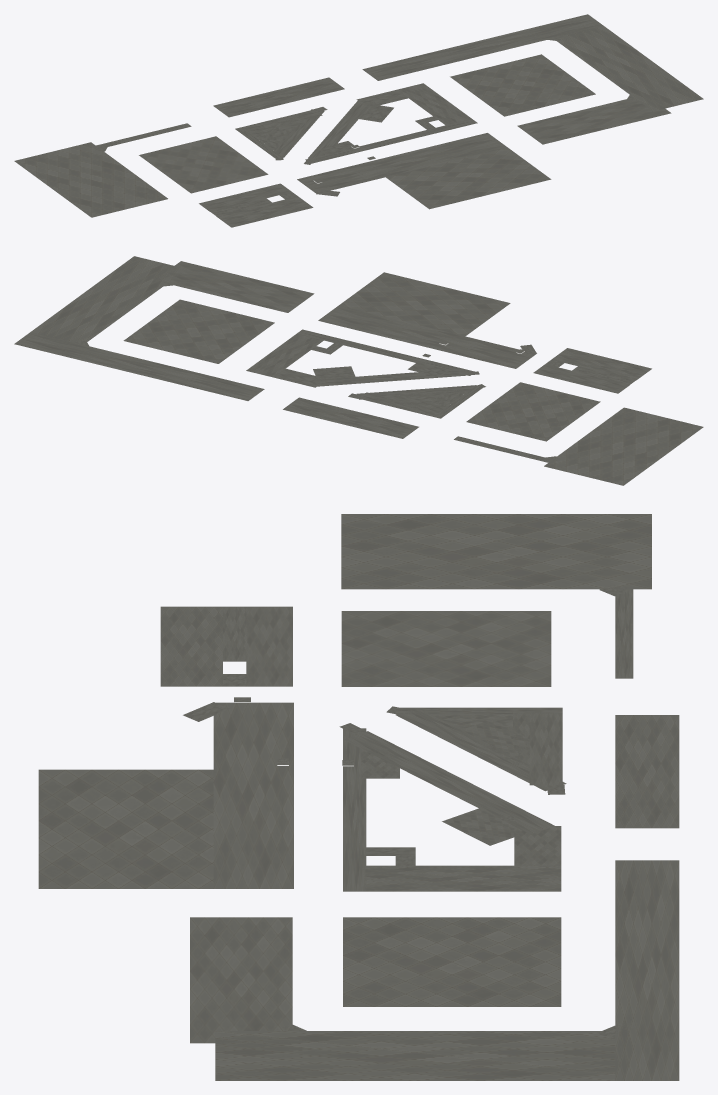
Rendered from Graund.gltf.
The picture shows the model from 3 angles, top to bottom: view 1: azimuth 30°, elevation 25°; view 2: azimuth 150°, elevation 25°; view 3: azimuth 270°, elevation 25°; orthographic projection. The views are drawn at different scales.
Visible parts, largest first — view 1: Pavement__2_, Pavement__11_, Pavement__7_, Pavement__12_, Pavement__1_, Pavement_8, Pavement__6_, Pavement__10_, Pavement__5_, Pavement_14, Pavement_10, Pavement_13 (+8 smaller); view 2: Pavement__2_, Pavement__11_, Pavement__7_, Pavement__12_, Pavement__1_, Pavement_8, Pavement__6_, Pavement__10_, Pavement__5_, Pavement_14, Pavement_10, Pavement_9 (+9 smaller); view 3: Pavement__2_, Pavement__11_, Pavement__7_, Pavement__12_, Pavement__1_, Pavement_8, Pavement__6_, Pavement__10_, Pavement__5_, Pavement_14, Pavement_10, Pavement_5 (+12 smaller).
Part boxes in pixels (left/top/right/bottom): Pavement__2_: left=14, top=142, right=167, bottom=217; Pavement__11_: left=386, top=147, right=551, bottom=209; Pavement__7_: left=557, top=26, right=703, bottom=111; Pavement__12_: left=450, top=54, right=595, bottom=116; Pavement__1_: left=139, top=136, right=268, bottom=193; Pavement_8: left=297, top=133, right=507, bottom=193; Pavement__6_: left=362, top=14, right=603, bottom=80; Pavement__10_: left=517, top=97, right=671, bottom=144; Pavement__5_: left=213, top=77, right=344, bottom=117; Pavement_14: left=397, top=83, right=471, bottom=125; Pavement_10: left=216, top=196, right=313, bottom=227; Pavement_13: left=305, top=119, right=477, bottom=163; Pavement__2_: left=544, top=407, right=703, bottom=485; Pavement__11_: left=339, top=272, right=510, bottom=336; Pavement__7_: left=31, top=256, right=186, bottom=342; Pavement__12_: left=123, top=299, right=274, bottom=363; Pavement__1_: left=466, top=382, right=600, bottom=441; Pavement_8: left=318, top=305, right=535, bottom=368; Pavement__6_: left=14, top=332, right=264, bottom=400; Pavement__10_: left=155, top=261, right=314, bottom=312; Pavement__5_: left=283, top=397, right=418, bottom=438; Pavement_14: left=246, top=334, right=323, bottom=377; Pavement_10: left=551, top=348, right=651, bottom=380; Pavement_9: left=533, top=364, right=629, bottom=393; Pavement__2_: left=341, top=514, right=651, bottom=589; Pavement__11_: left=38, top=769, right=213, bottom=888; Pavement__7_: left=215, top=1031, right=615, bottom=1080; Pavement__12_: left=343, top=917, right=561, bottom=1006; Pavement__1_: left=341, top=611, right=551, bottom=686; Pavement_8: left=213, top=702, right=293, bottom=888; Pavement__6_: left=615, top=860, right=679, bottom=1080; Pavement__10_: left=190, top=917, right=292, bottom=1043; Pavement__5_: left=615, top=715, right=679, bottom=828; Pavement_14: left=365, top=865, right=561, bottom=891; Pavement_10: left=160, top=606, right=222, bottom=686; Pavement_5: left=344, top=731, right=554, bottom=834.
Bounding box in the file's own units: 261 × 2.39 × 124.
